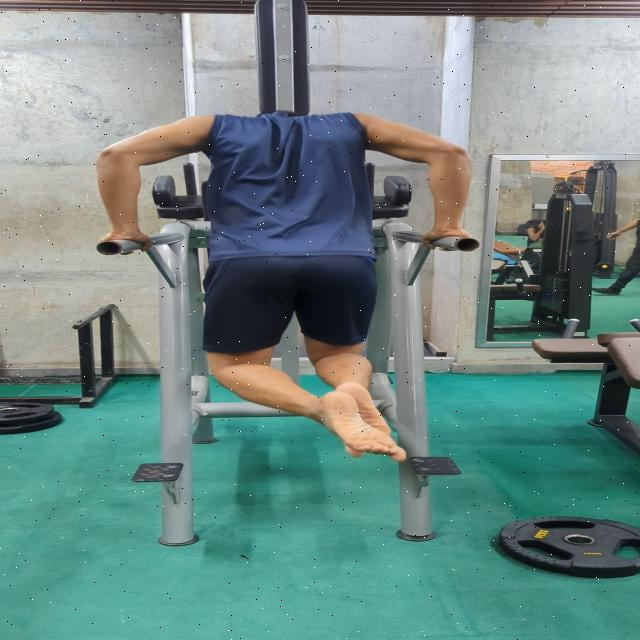Normal_Dips: (80, 99, 480, 464)
